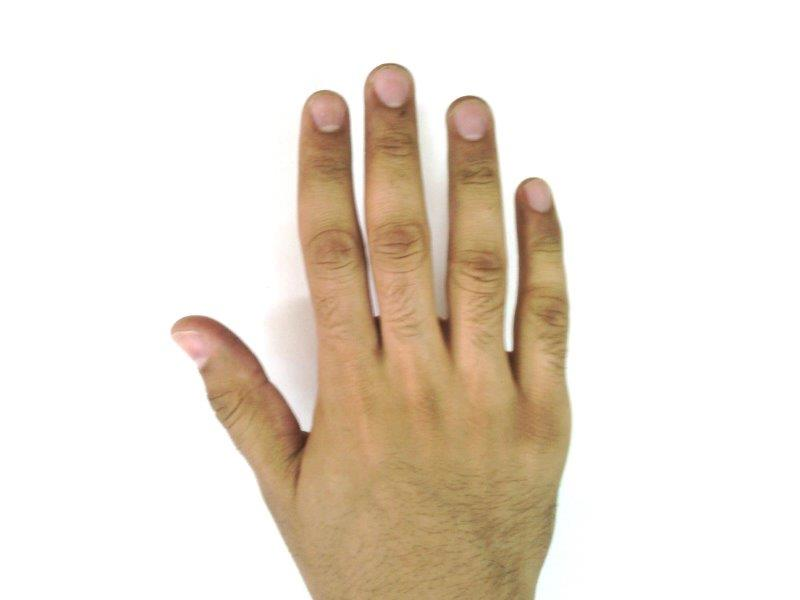hand: (172, 64, 568, 585)
